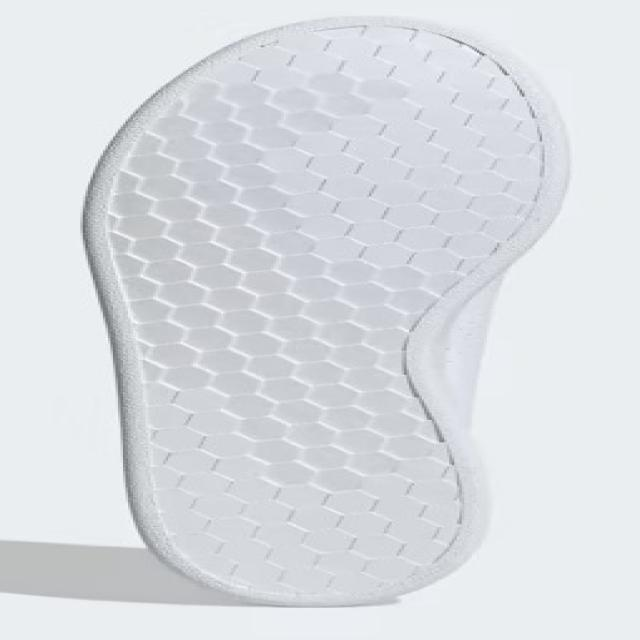shoe: (68, 9, 585, 615)
